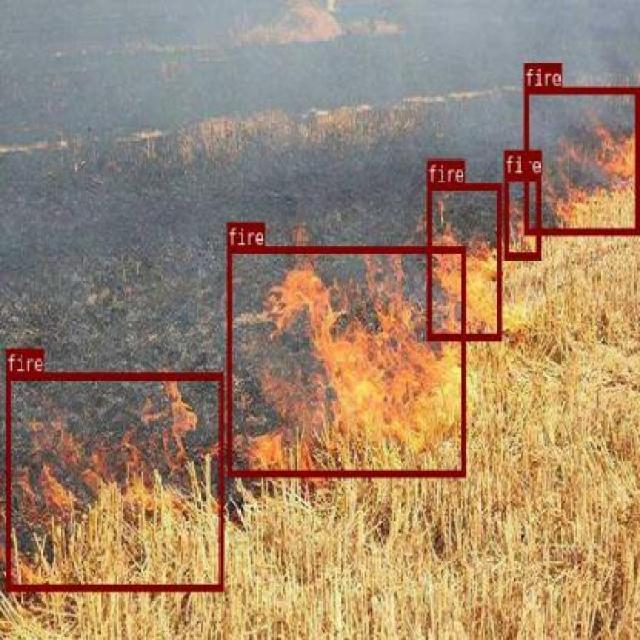Fire: (227, 244, 466, 476), (6, 369, 222, 588), (523, 87, 639, 233), (426, 180, 502, 337), (502, 174, 540, 258)
